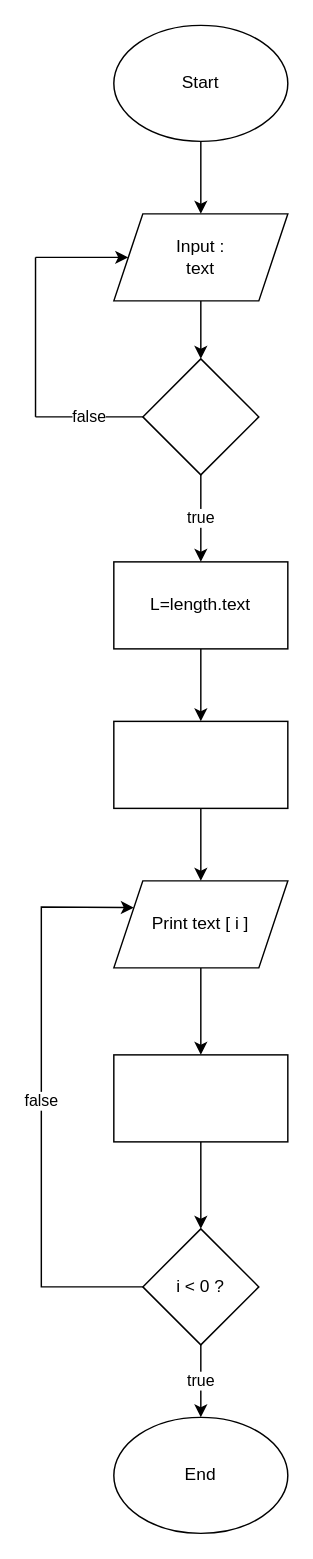
This 313x1559 diagram has some shape labels left out. Here are the shapes that lost their labels. From the top down, the box of each, then its label:
(141, 357, 259, 475): typedata string?
(112, 720, 288, 808): i = L
(112, 1053, 288, 1142): i--
